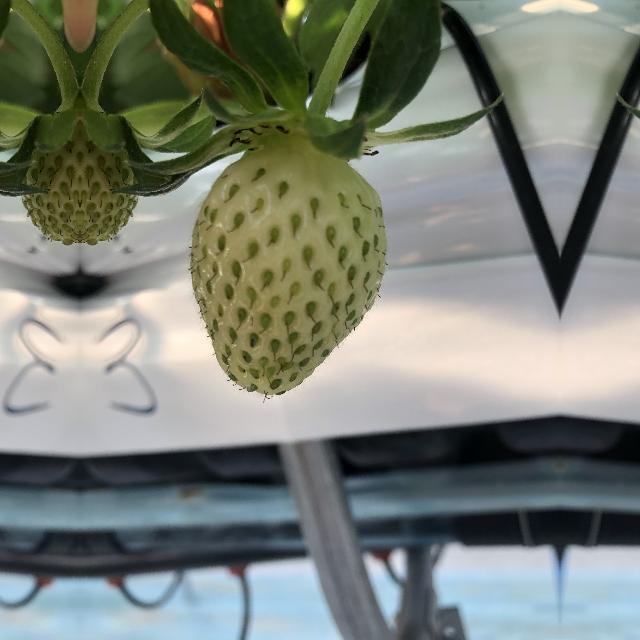Health_100: (80, 114, 142, 248), (18, 114, 80, 248)
Health_25: (192, 142, 388, 406)
